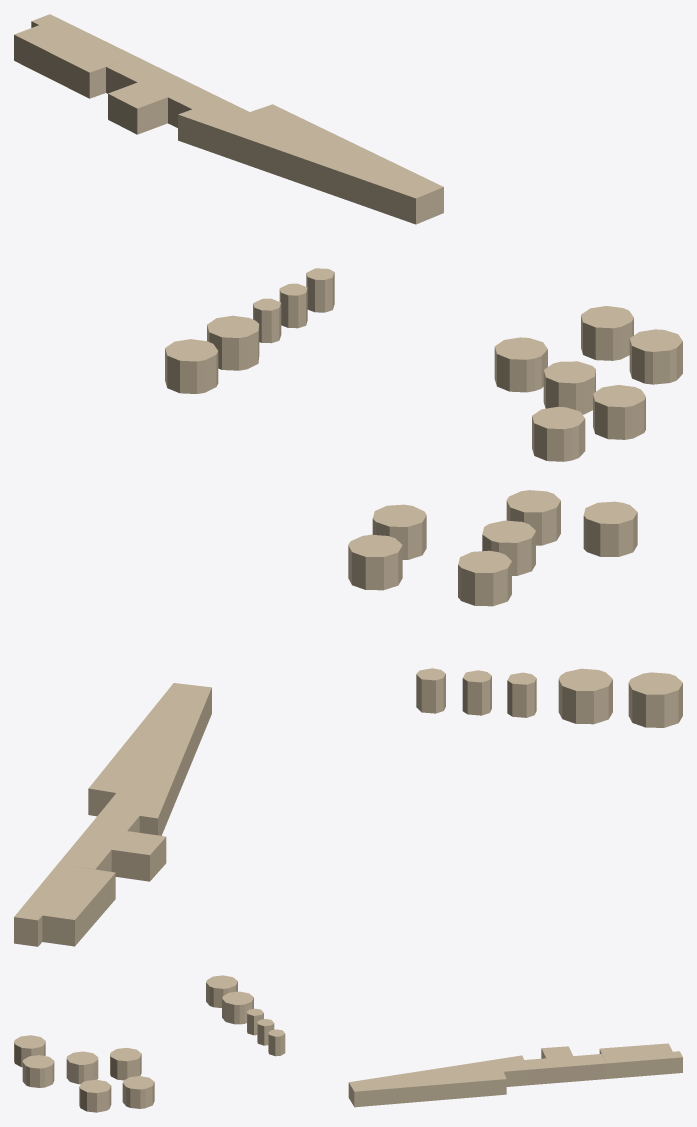
File: -15_-8-estimated-coarse.glb
3 views of the same model, one above another, from view 1: azimuth 30°, elevation 25°; view 2: azimuth 150°, elevation 25°; view 3: azimuth 270°, elevation 25° (orthographic). The views are drawn at different scales.
Size of the model in its own units: 195 by 15 by 468.
